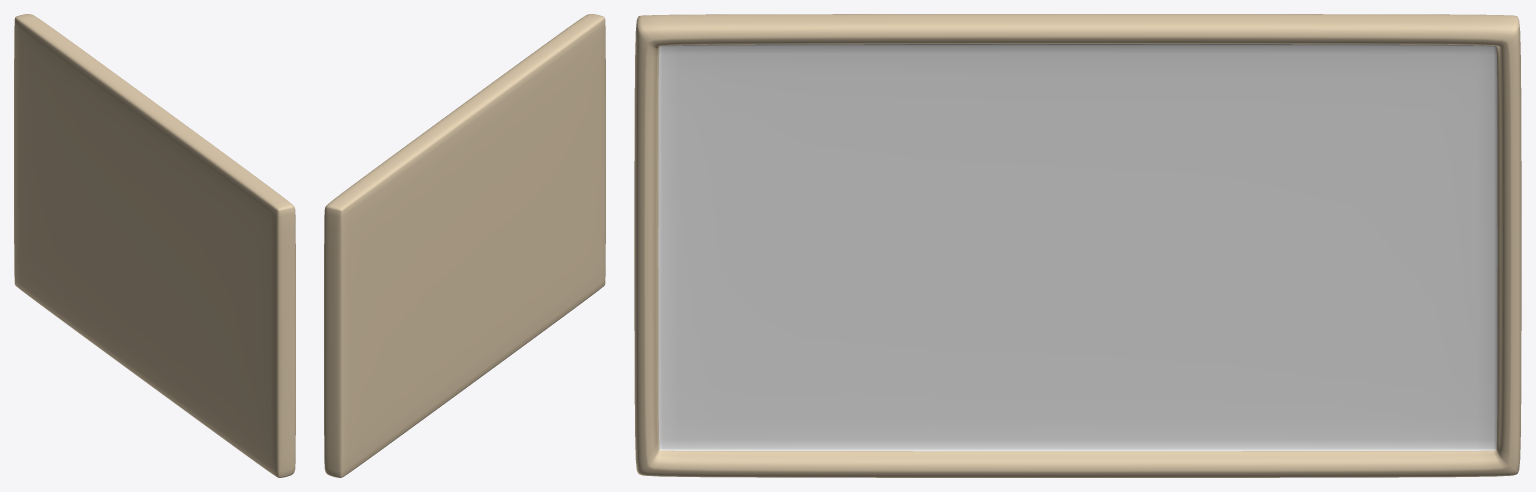
Rendered from monitor2.glb.
3 renders of one model, left to right at view 1: azimuth 30°, elevation 25°; view 2: azimuth 150°, elevation 25°; view 3: azimuth 270°, elevation 25°, orthographic. The views are drawn at different scales.
Parts seen in each view (by area): view 1: monitor.002; view 2: monitor.002; view 3: monitor.002.
Boxes of the visible parts, box(x1,y1,x2,y2) form: monitor.002: box(14, 14, 295, 477); monitor.002: box(324, 14, 605, 477); monitor.002: box(634, 14, 1521, 477).
Bounding box in the file's own units: 0.0553 × 0.6749 × 1.19.
